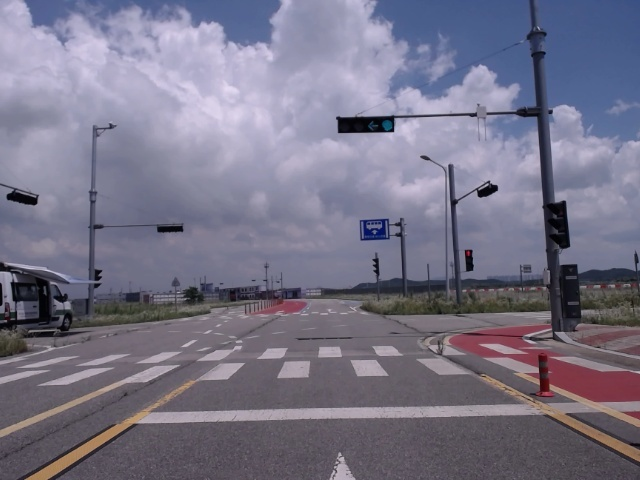all_green_4: (335, 120, 396, 131)
